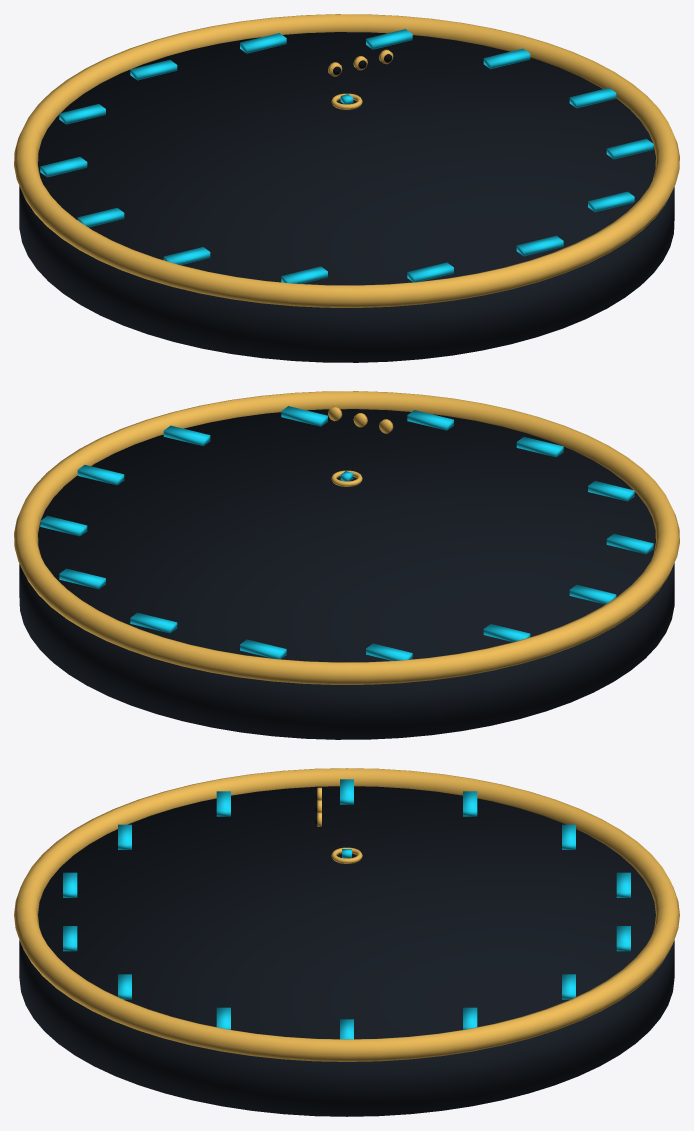
The model's file is 10_L93_SampleCoreDisplayCradle.fbx.
3 views of the same model, one above another, from view 1: azimuth 30°, elevation 25°; view 2: azimuth 150°, elevation 25°; view 3: azimuth 270°, elevation 25° (orthographic).
Visible parts, largest first — view 1: L92_SampleCoreDisplayCradle_Part_0000, L92_SampleCoreDisplayCradle_Part_0001, L92_SampleCoreDisplayCradle_Part_0002; view 2: L92_SampleCoreDisplayCradle_Part_0000, L92_SampleCoreDisplayCradle_Part_0001, L92_SampleCoreDisplayCradle_Part_0002; view 3: L92_SampleCoreDisplayCradle_Part_0000, L92_SampleCoreDisplayCradle_Part_0001, L92_SampleCoreDisplayCradle_Part_0002.
Boxes of the visible parts, box(x1,y1,x2,y2) form: L92_SampleCoreDisplayCradle_Part_0000: box(19, 32, 674, 362); L92_SampleCoreDisplayCradle_Part_0001: box(14, 14, 679, 307); L92_SampleCoreDisplayCradle_Part_0002: box(40, 29, 653, 283); L92_SampleCoreDisplayCradle_Part_0000: box(19, 409, 674, 739); L92_SampleCoreDisplayCradle_Part_0001: box(14, 391, 679, 684); L92_SampleCoreDisplayCradle_Part_0002: box(40, 406, 653, 660); L92_SampleCoreDisplayCradle_Part_0000: box(19, 786, 674, 1116); L92_SampleCoreDisplayCradle_Part_0001: box(14, 768, 679, 1061); L92_SampleCoreDisplayCradle_Part_0002: box(63, 779, 630, 1039).
Size of the model in its own units: 610 by 180 by 610.
